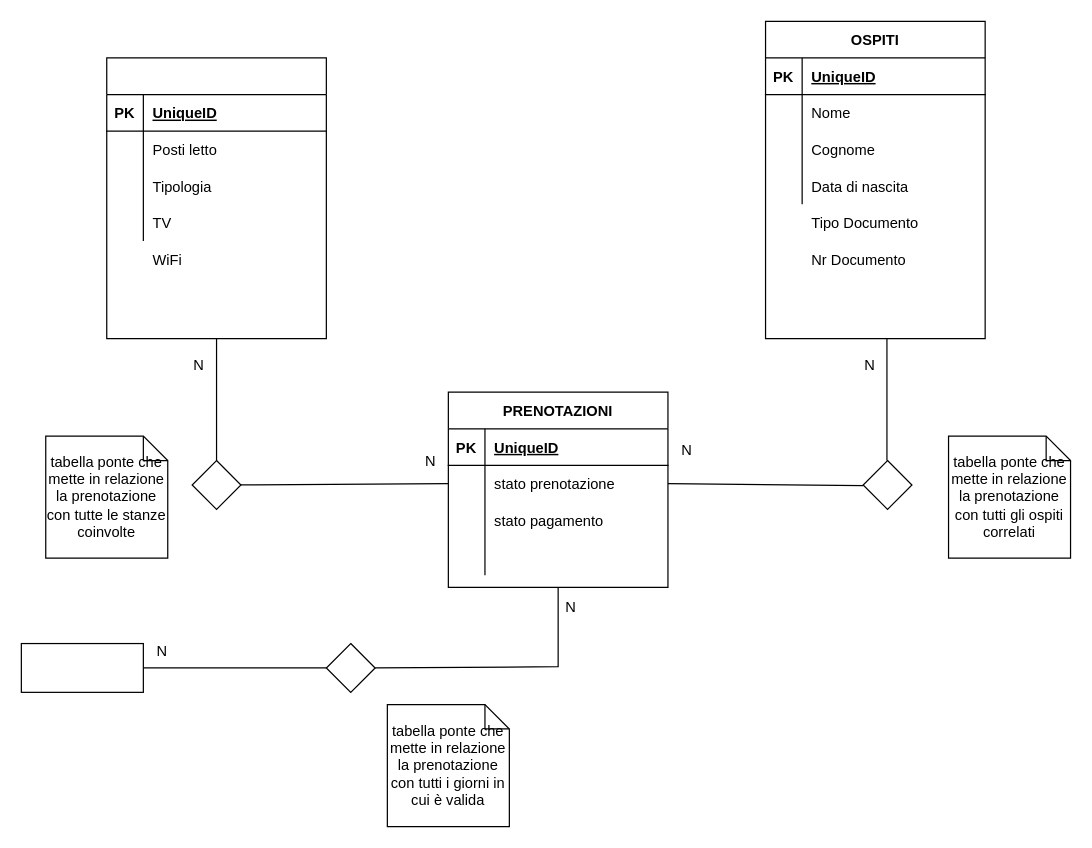
The diagram is 1092 pixels wide and 848 high, and some of its shapes have lost their labels. The shapes that lost their labels are listed below. From the top down, each one's box as (x1, y1, x2, y2) in pixels, then its label:
(106, 57, 326, 339): STANZE
(20, 642, 143, 692): GIORNI_ANNO
